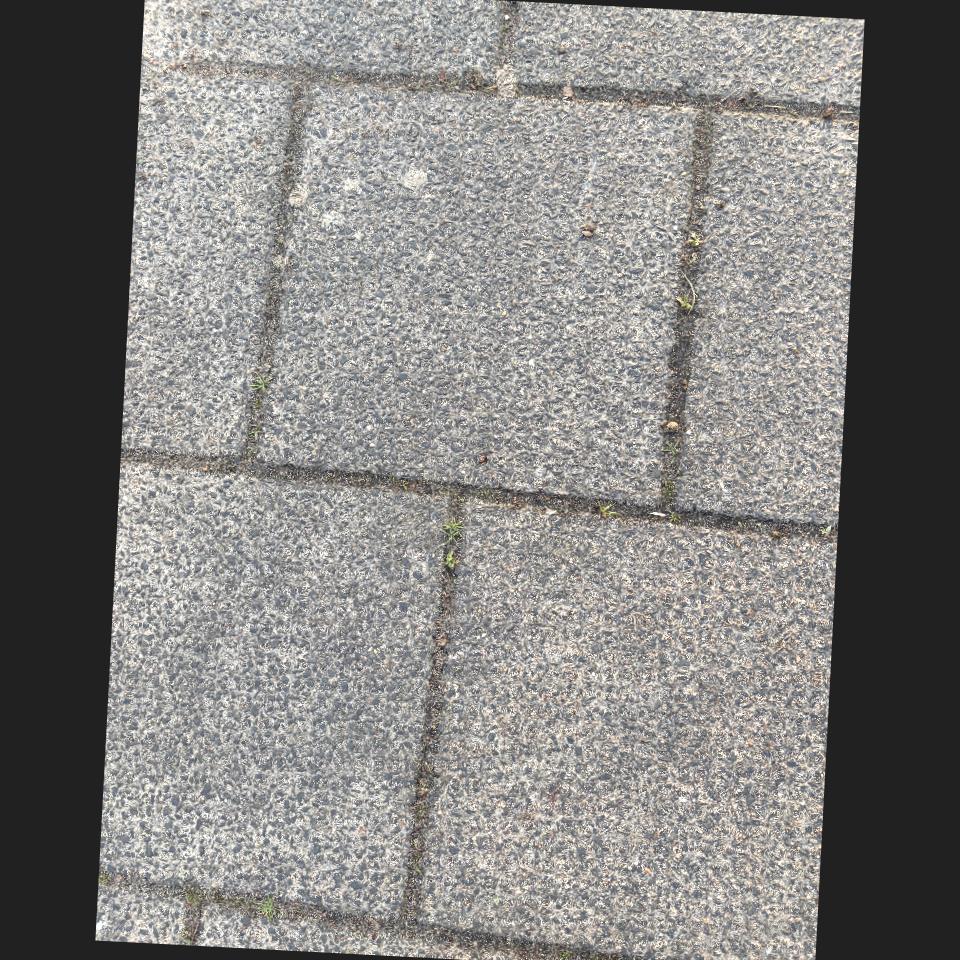weed: (443, 517, 463, 568), (254, 896, 277, 923), (662, 438, 681, 466), (249, 372, 272, 395), (597, 503, 619, 518), (676, 295, 692, 313), (247, 425, 263, 443), (445, 550, 458, 570), (687, 232, 702, 249)
